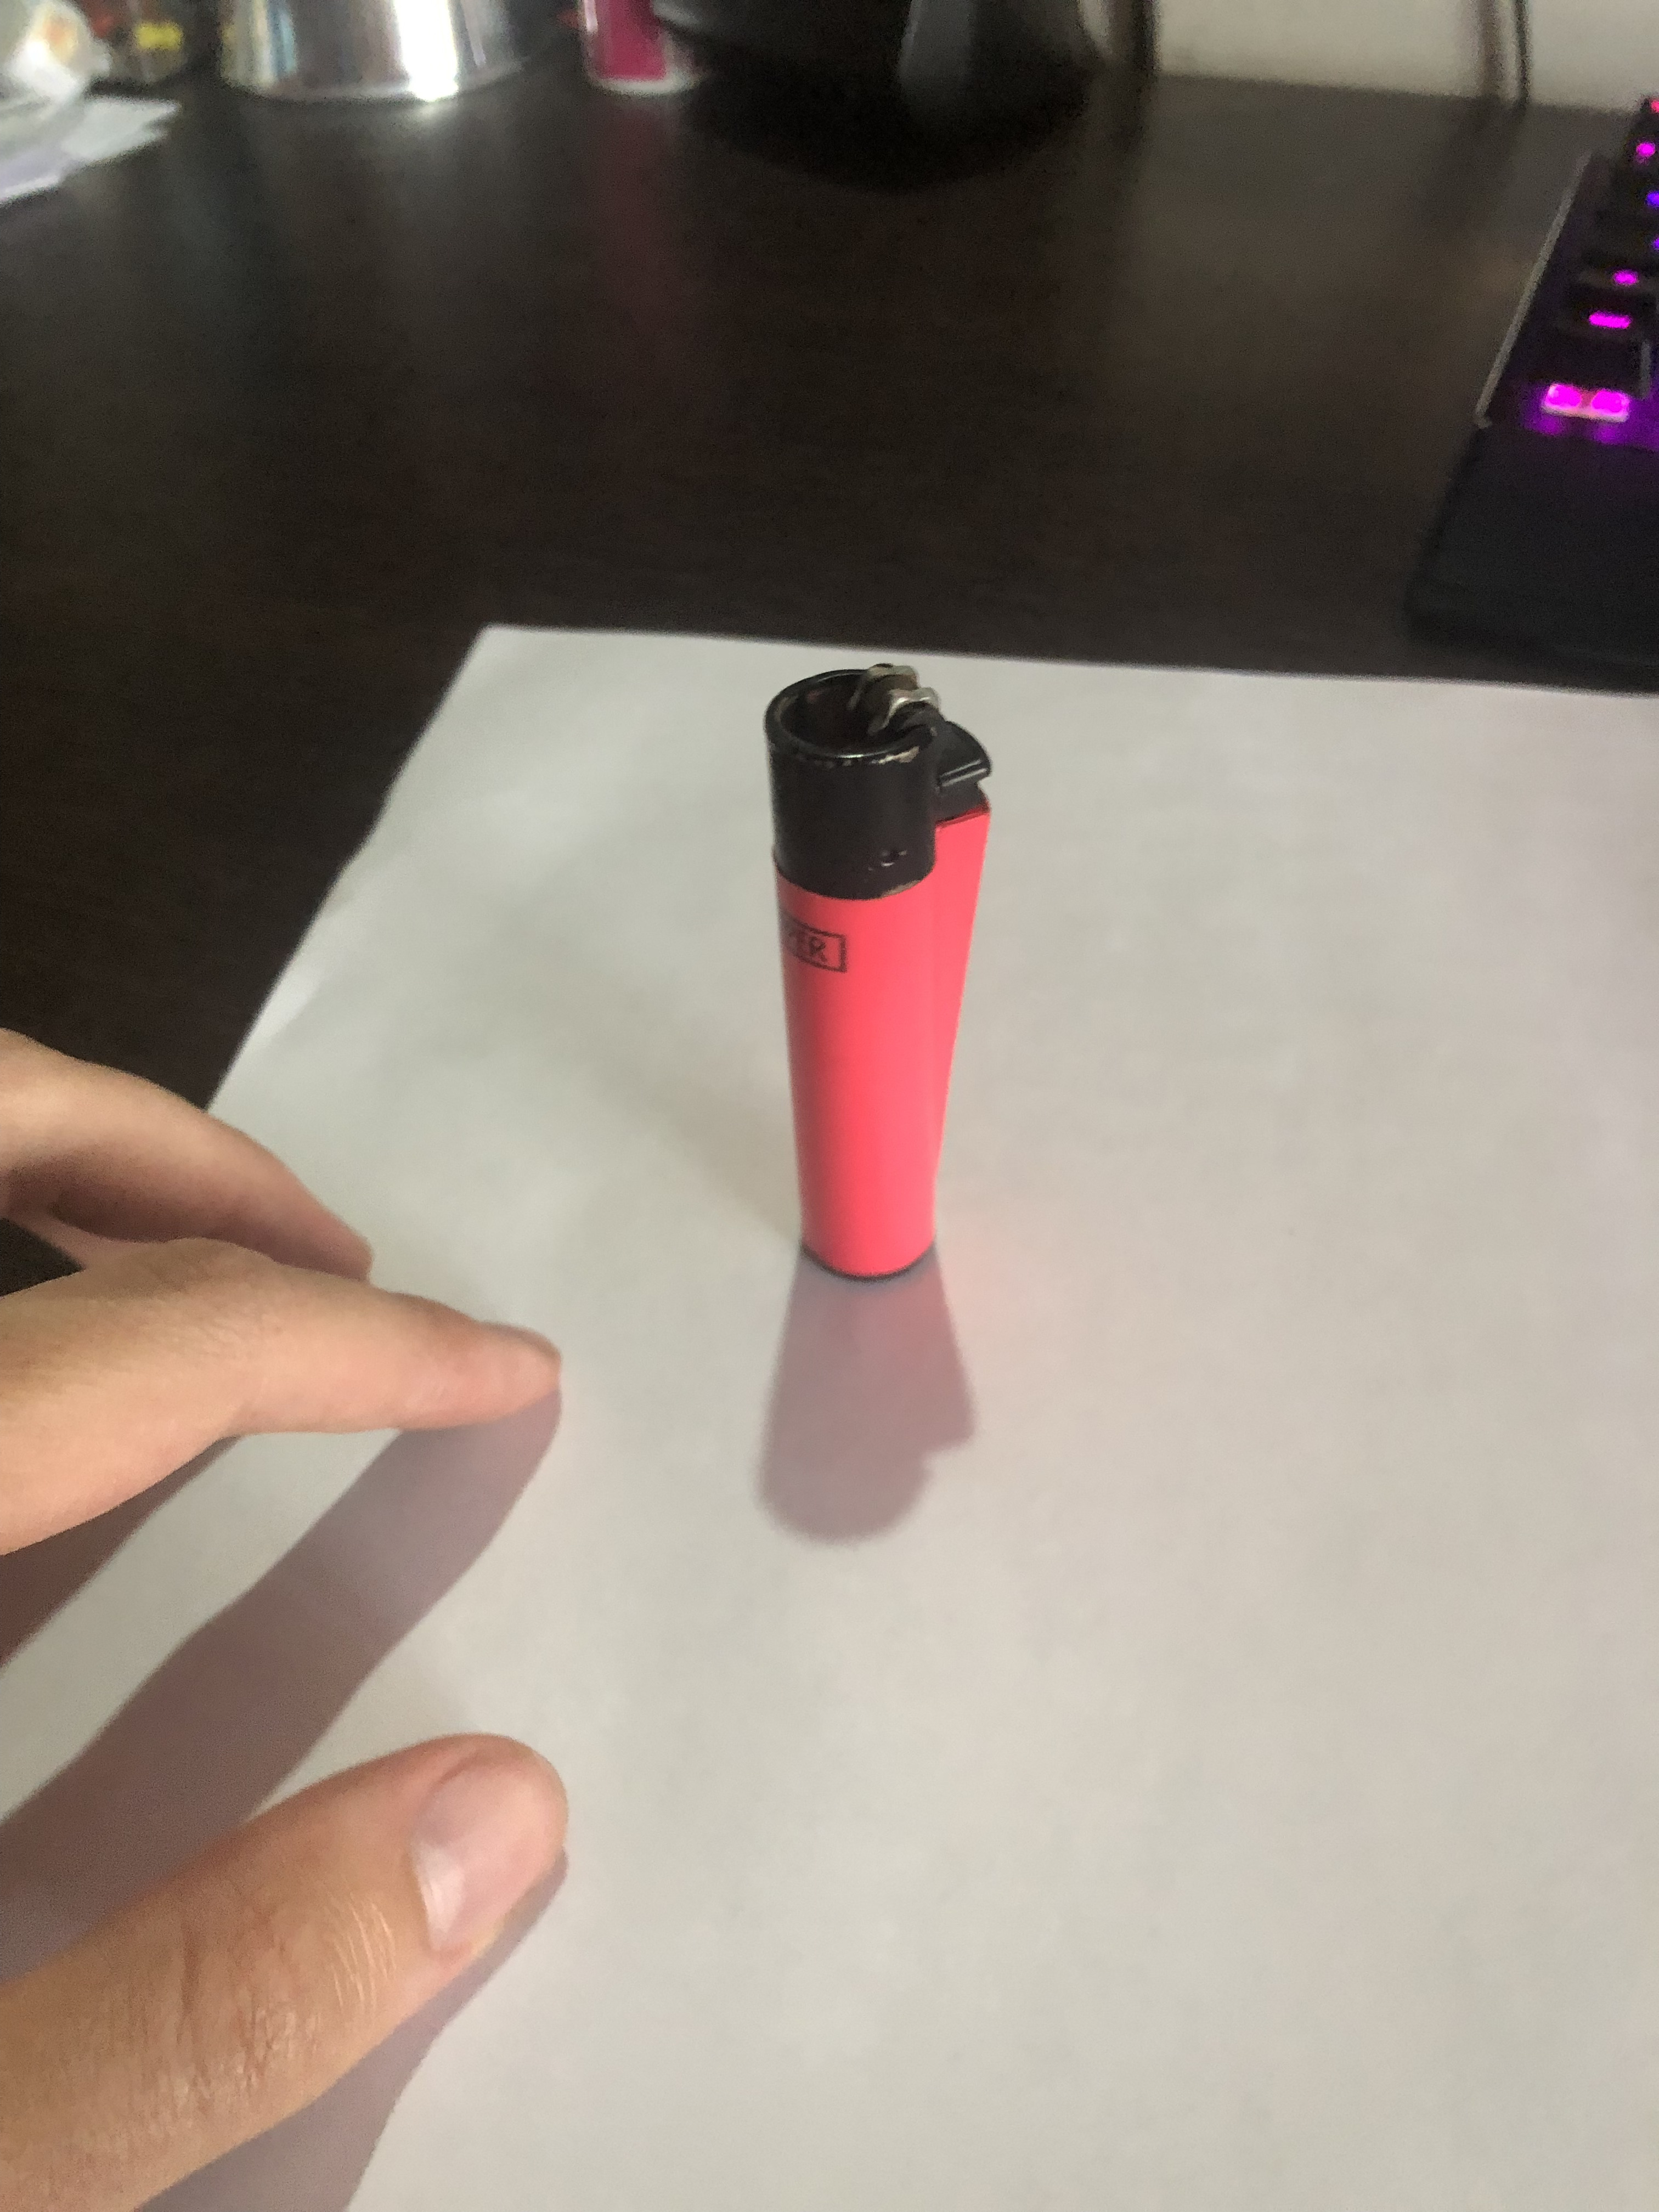Mechero: (742, 634, 1007, 1305)
